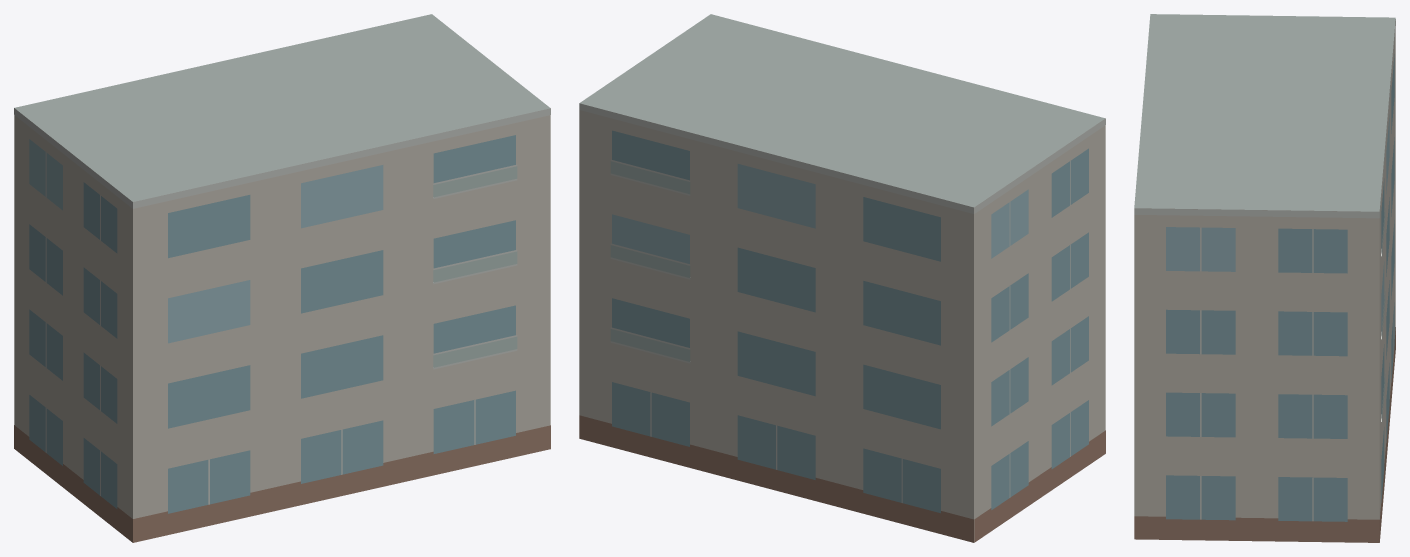
File: survey-upis-32832276.glb
3 renders of one model, left to right at view 1: azimuth 30°, elevation 25°; view 2: azimuth 150°, elevation 25°; view 3: azimuth 270°, elevation 25°, orthographic. The views are drawn at different scales.
Visible parts, largest first — view 1: survey-upis-32832276.tmp; view 2: survey-upis-32832276.tmp; view 3: survey-upis-32832276.tmp.
Boxes of the visible parts, left/top/right/bottom form: survey-upis-32832276.tmp: left=14, top=14, right=550, bottom=542; survey-upis-32832276.tmp: left=579, top=14, right=1105, bottom=542; survey-upis-32832276.tmp: left=1134, top=14, right=1395, bottom=542.
Bounding box in the file's own units: 15.63 × 12.2 × 8.75.
